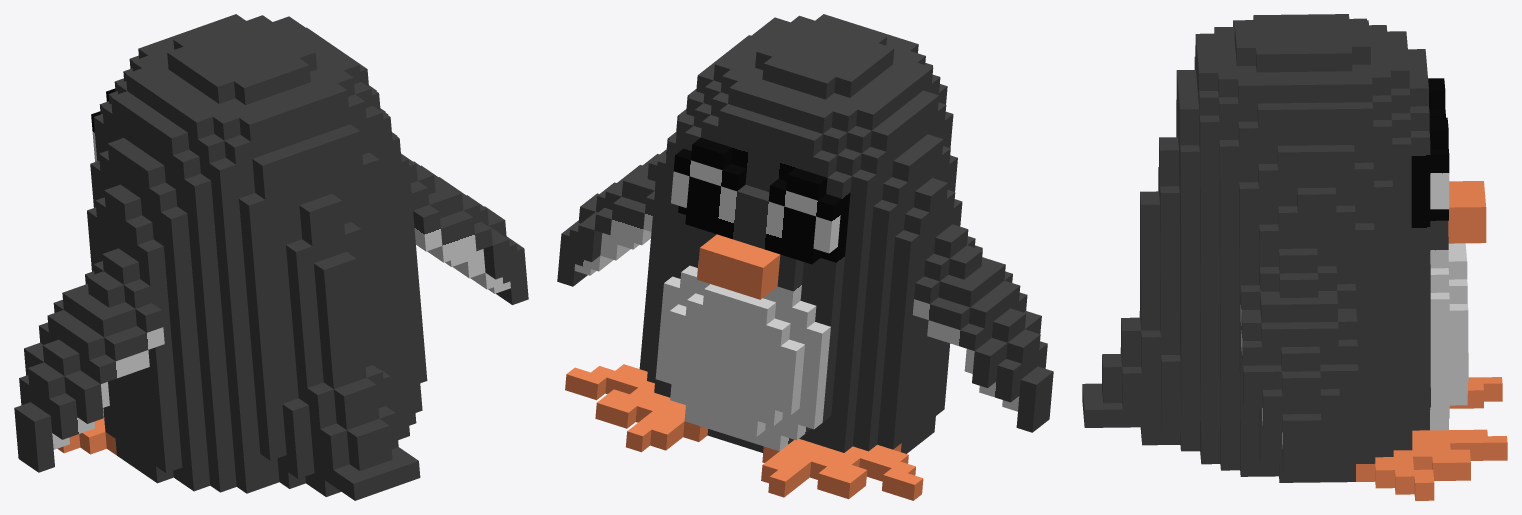
The model's file is pinguino.dae.
3 renders of one model, left to right at view 1: azimuth 30°, elevation 25°; view 2: azimuth 150°, elevation 25°; view 3: azimuth 270°, elevation 25°, orthographic. The views are drawn at different scales.
Parts seen in each view (by area): view 1: Node-local, Node (4)-local, Node (3)-local, Node (1)-local; view 2: Node-local, Node (4)-local, Node (3)-local, Node (1)-local, Node (2)-local; view 3: Node-local, Node (3)-local, Node (2)-local, Node (1)-local.
Part boxes in pixels (x1,y1,x2,y2): Node-local: (87,14,427,500); Node (4)-local: (14,248,164,472); Node (3)-local: (401,153,528,304); Node (1)-local: (57,408,116,455); Node-local: (639,14,962,453); Node (4)-local: (912,224,1053,432); Node (3)-local: (557,149,666,286); Node (1)-local: (761,439,923,500); Node (2)-local: (565,364,707,452); Node-local: (1082,14,1486,482); Node (3)-local: (1240,248,1358,474); Node (2)-local: (1356,429,1507,500); Node (1)-local: (1449,377,1502,408).
Bounding box in the file's own units: 30.19 × 23.14 × 22.2.
Materials: 5 (5 with a texture image).
